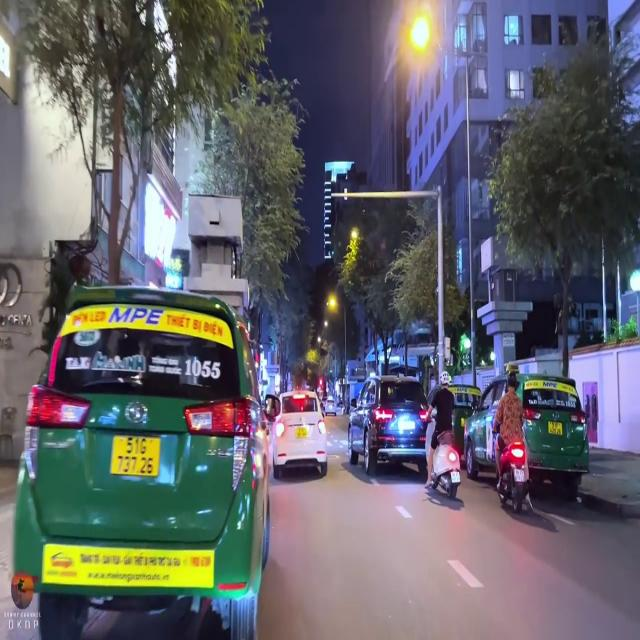bien_vang: (109, 427, 159, 481)
